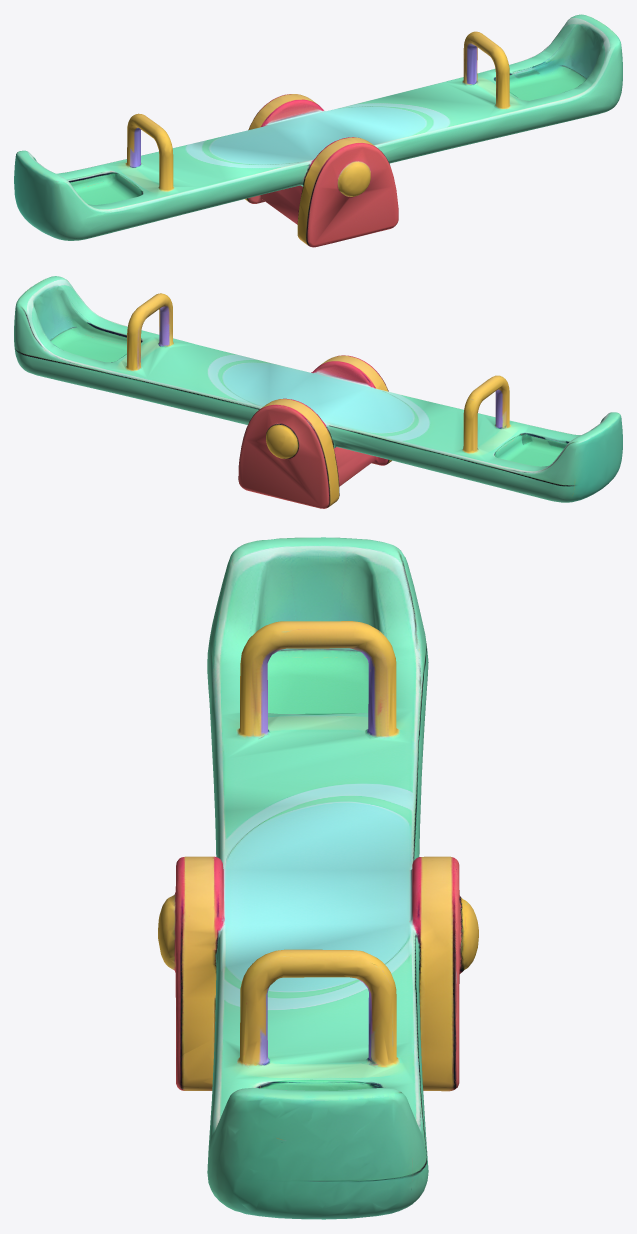
Rendered from static.glb.
3 renders of one model, top to bottom at view 1: azimuth 30°, elevation 25°; view 2: azimuth 150°, elevation 25°; view 3: azimuth 270°, elevation 25°, orthographic. The views are drawn at different scales.
Visible parts, largest first — view 1: Mesh_0; view 2: Mesh_0; view 3: Mesh_0.
Boxes of the visible parts, x1,y1,x2,y2 form: Mesh_0: [14, 14, 622, 247]; Mesh_0: [14, 276, 622, 508]; Mesh_0: [158, 537, 478, 1219].
Size of the model in its own units: 1.9 by 0.4168 by 0.4552.
Materials: 1 (1 with a texture image).
